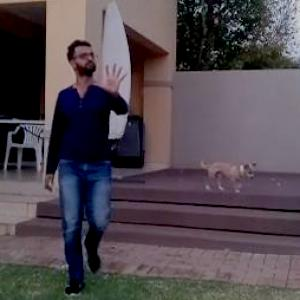follow_hand: (97, 57, 131, 98)
